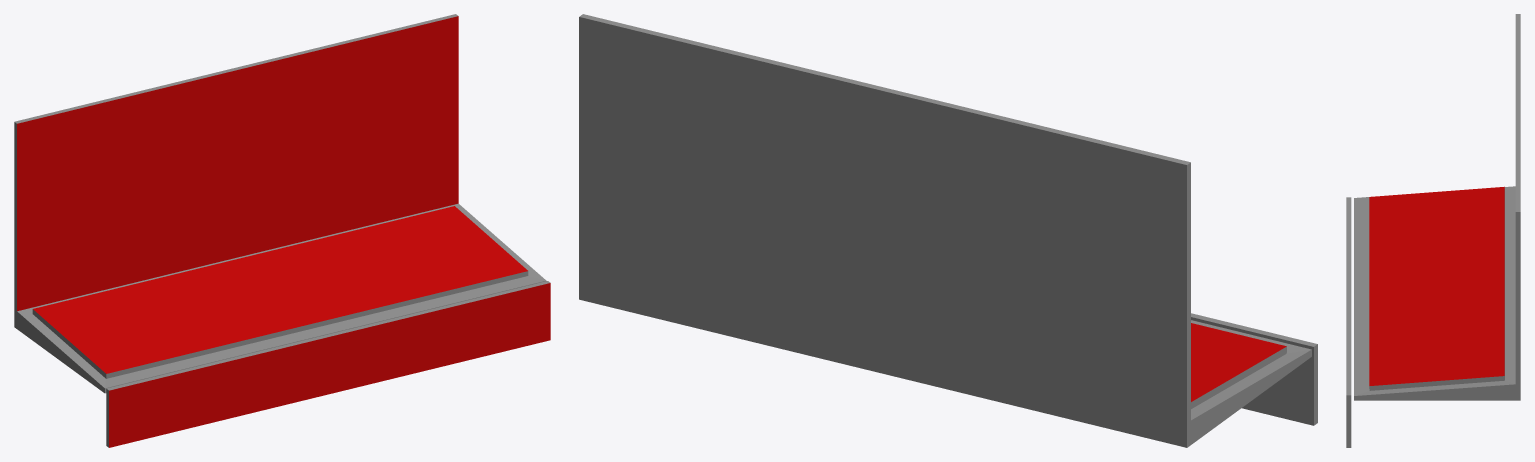
File: SK5_Others_Rectangle0701.FBX
3 renders of one model, left to right at view 1: azimuth 30°, elevation 25°; view 2: azimuth 150°, elevation 25°; view 3: azimuth 270°, elevation 25°, orthographic. The views are drawn at different scales.
Visible parts, largest first — view 1: SK5_Others_Rectangle0701; view 2: SK5_Others_Rectangle0701; view 3: SK5_Others_Rectangle0701.
Boxes of the visible parts, x1=… form: SK5_Others_Rectangle0701: x1=14, y1=14, x2=550, y2=447; SK5_Others_Rectangle0701: x1=579, y1=14, x2=1317, y2=447; SK5_Others_Rectangle0701: x1=1346, y1=14, x2=1520, y2=447.
Size of the model in its own units: 46.84 by 26.02 by 17.44.
